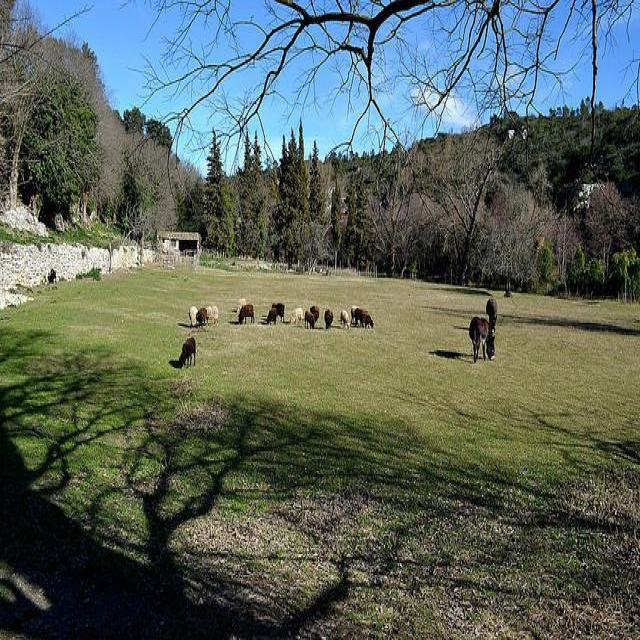Sheep: (177, 297, 500, 379)
